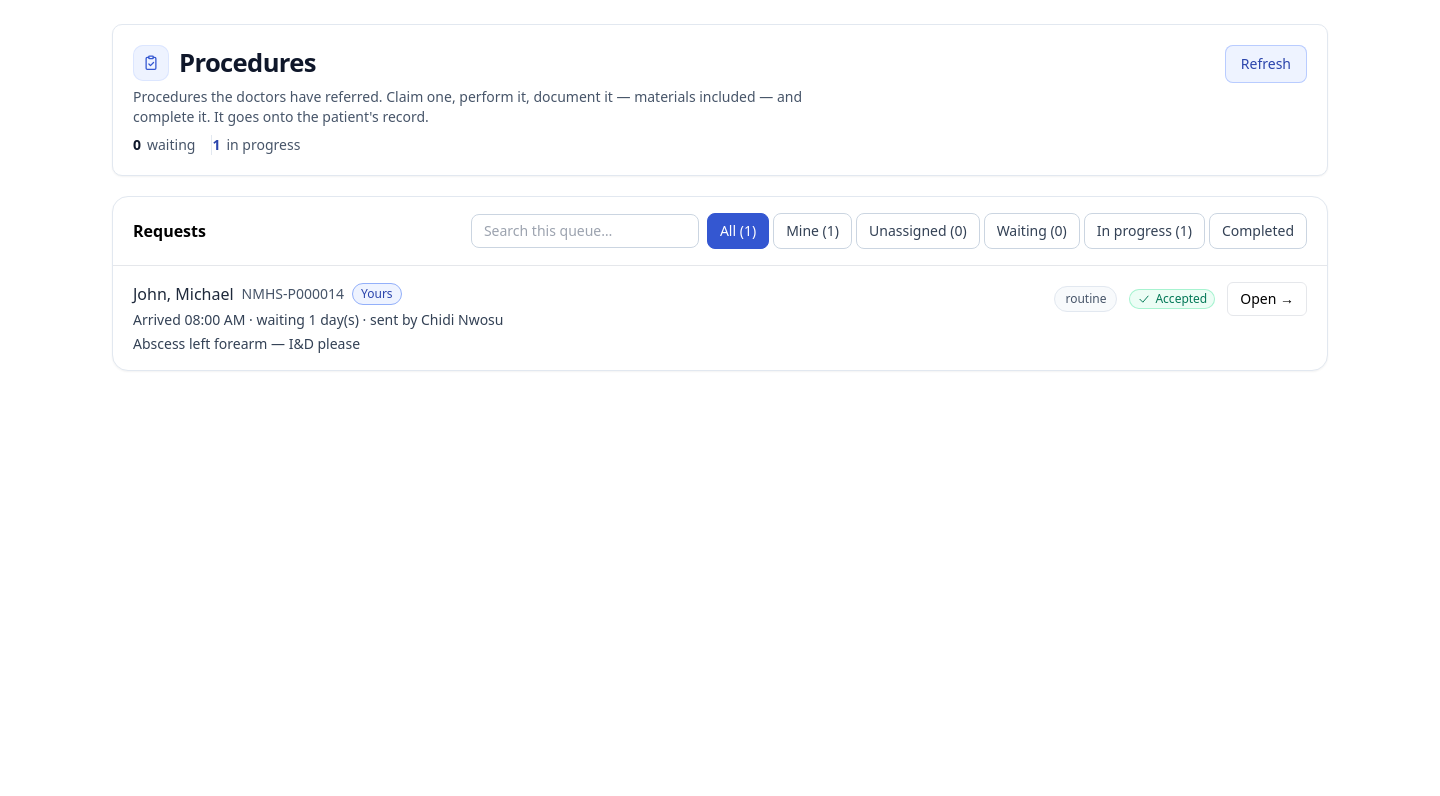
Test: the Procedures board › offers a held procedure's doctor the patient's chart
The image size is (1440, 796).
What coordinates should you click on to do the following:
click the button "Open →"
I would click on:
 (1267, 299)
Its box is [1227, 282, 1307, 316].
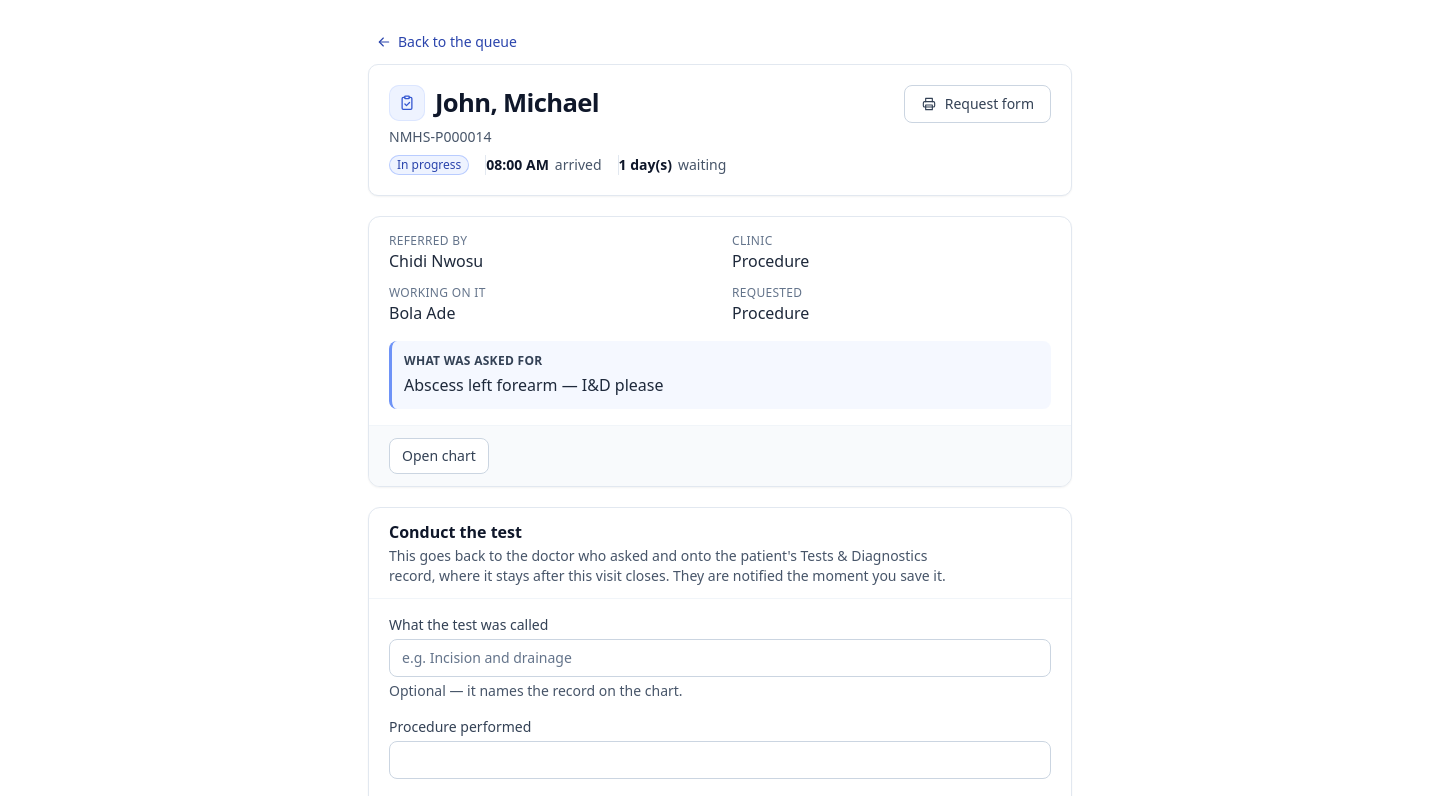
Expected: the field labelled "Procedure performed" is shown, [389, 741, 1051, 779]
